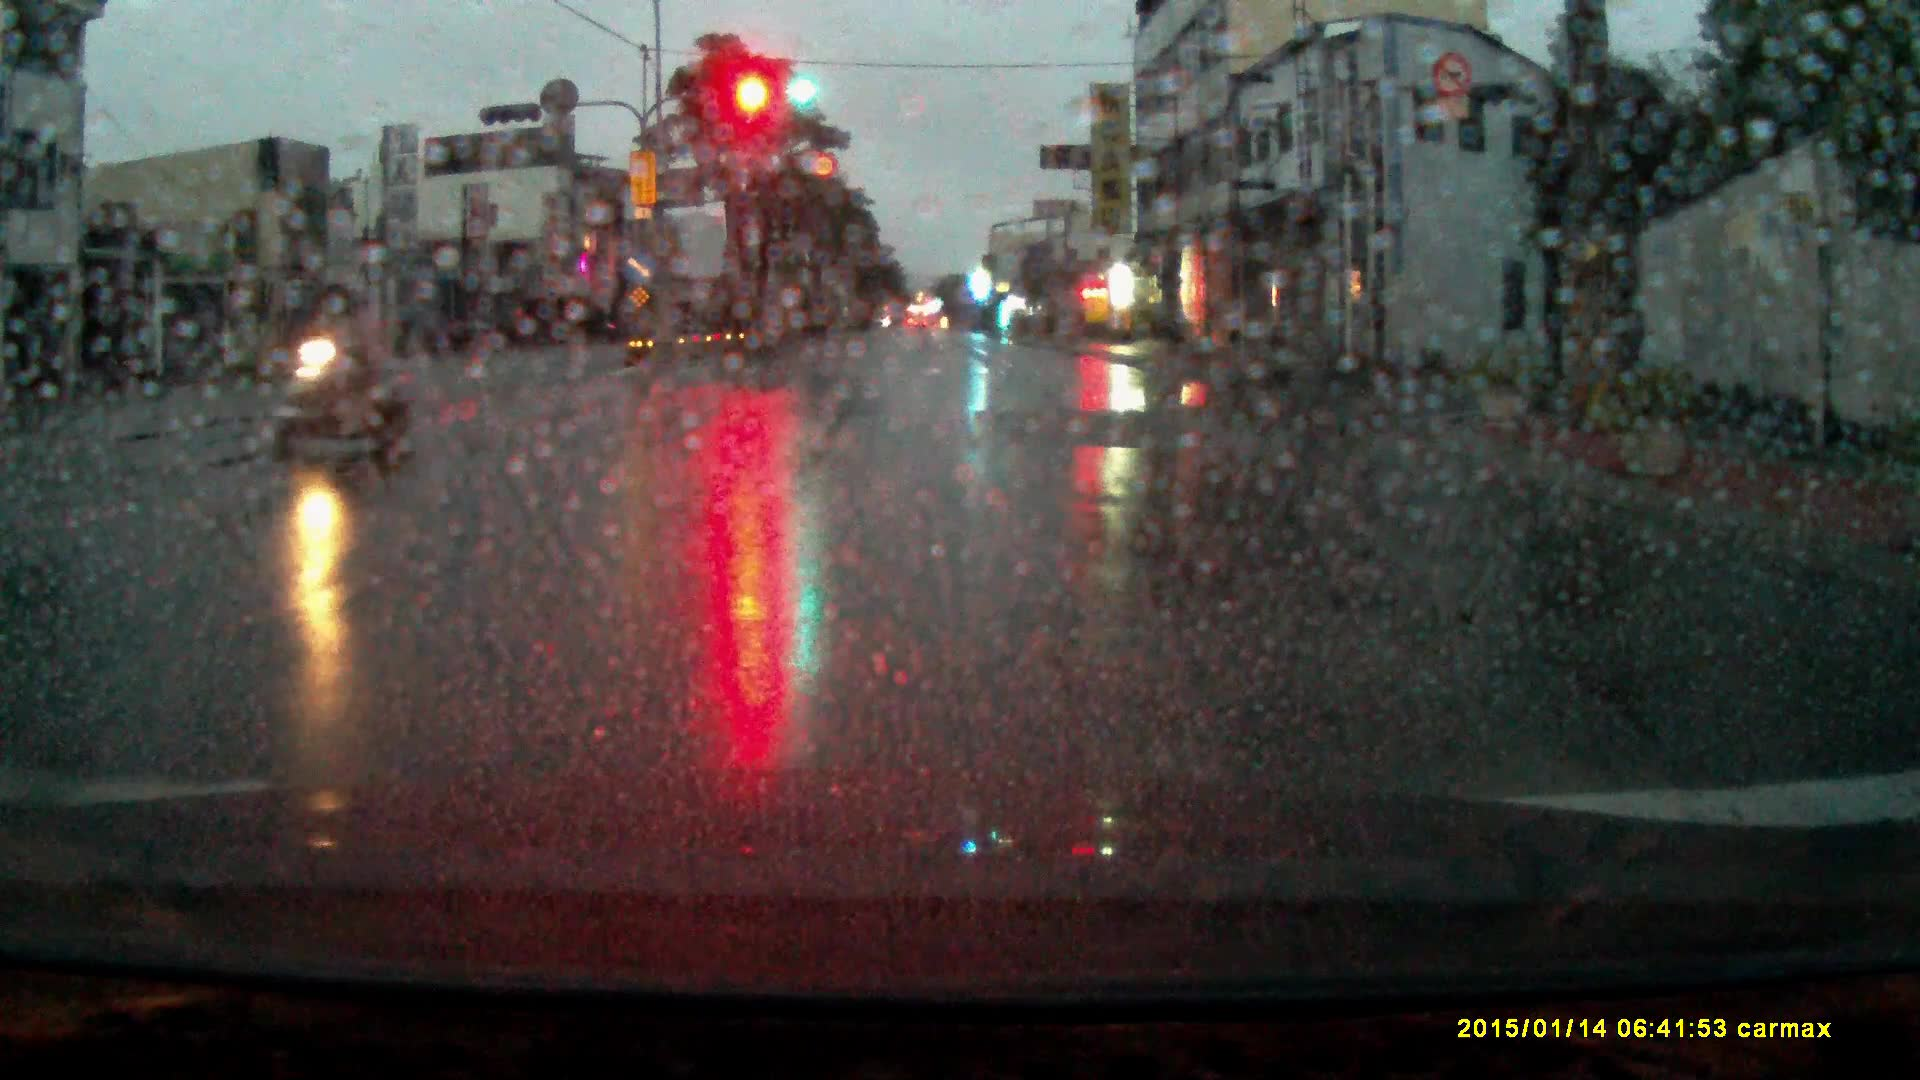rider: (266, 275, 409, 462)
